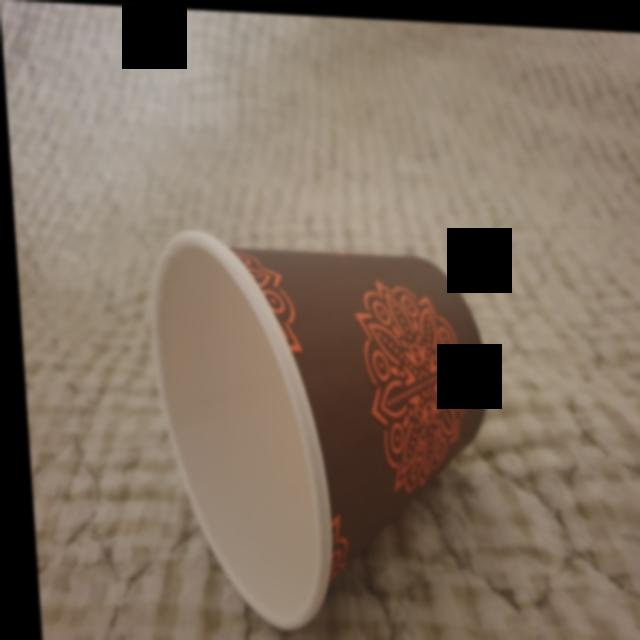cups: (137, 222, 498, 640)
